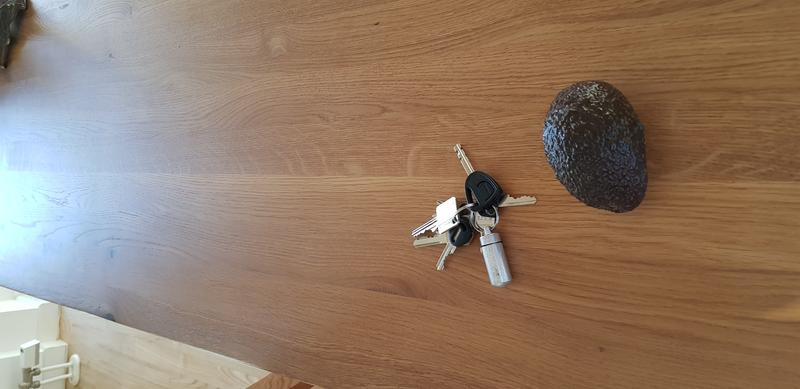Avocado: (535, 77, 653, 222)
